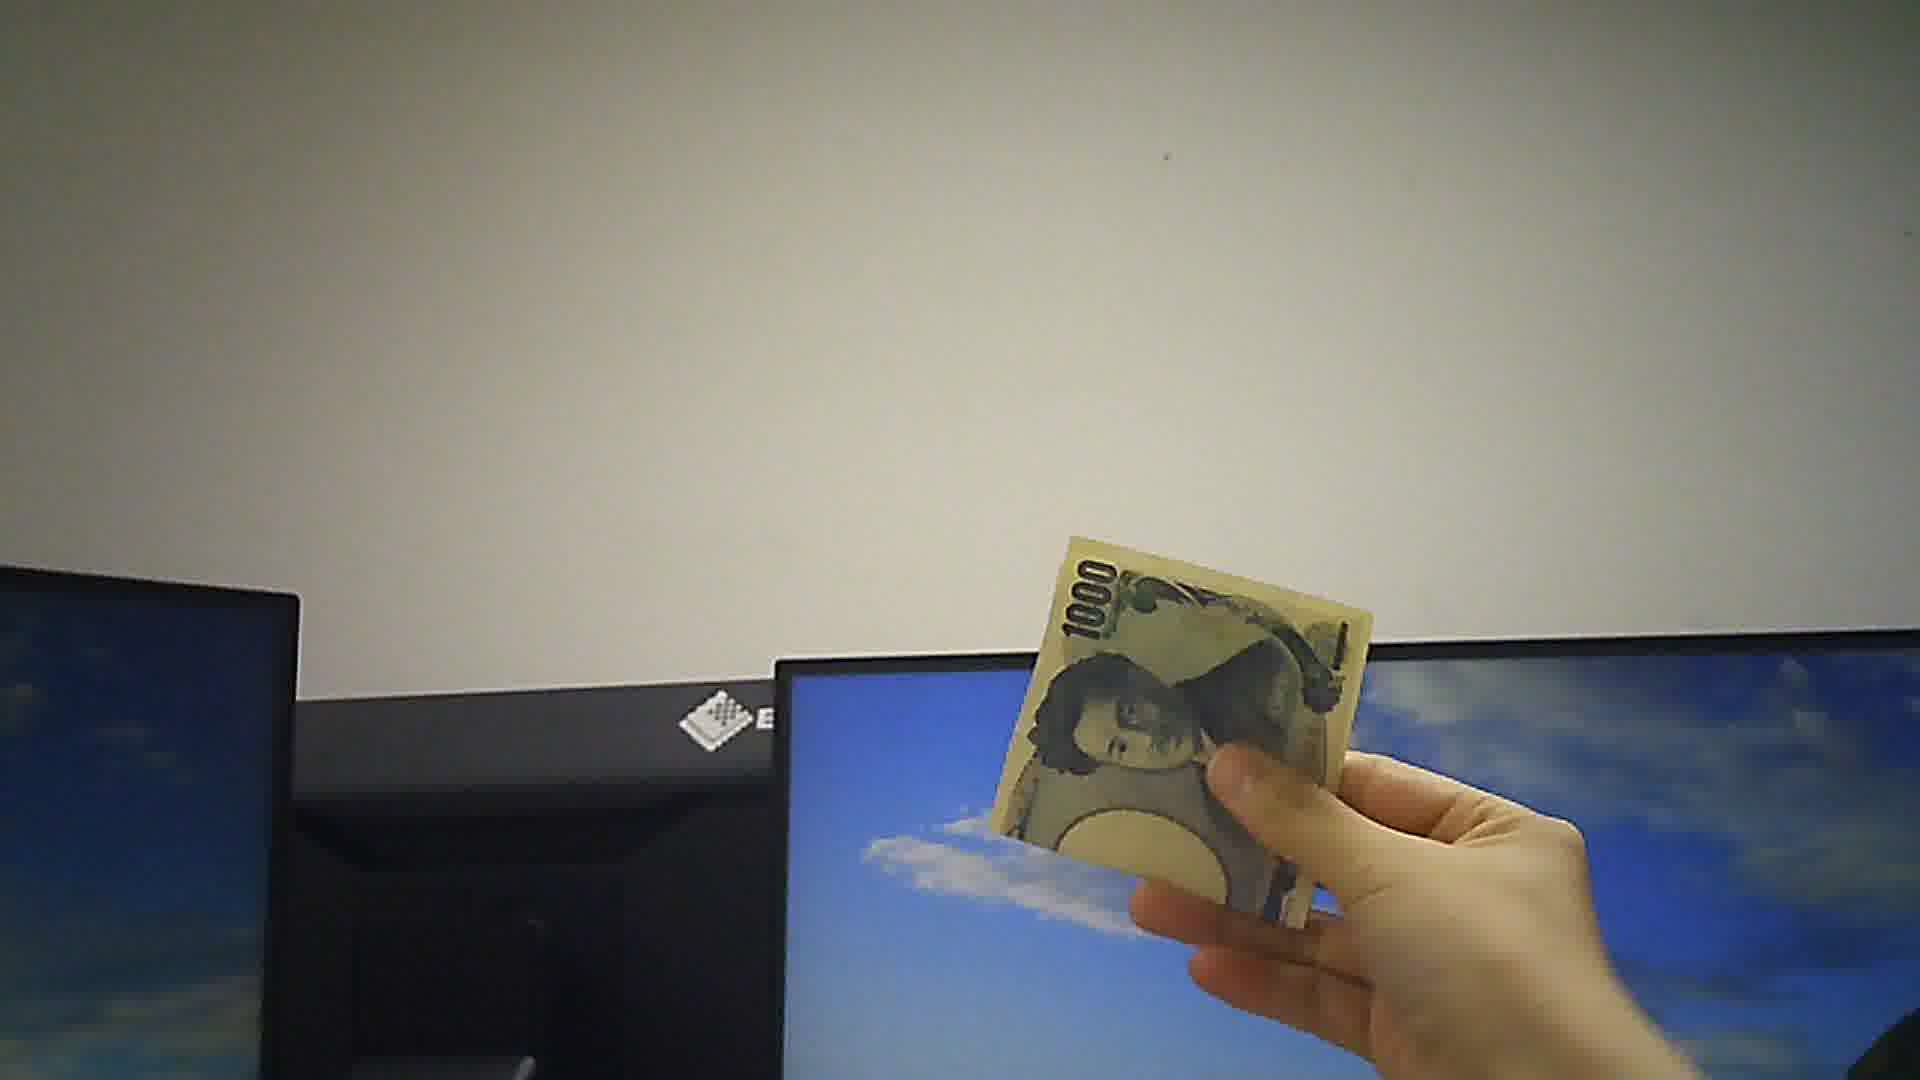1,000 Yen: (997, 535, 1367, 919)
